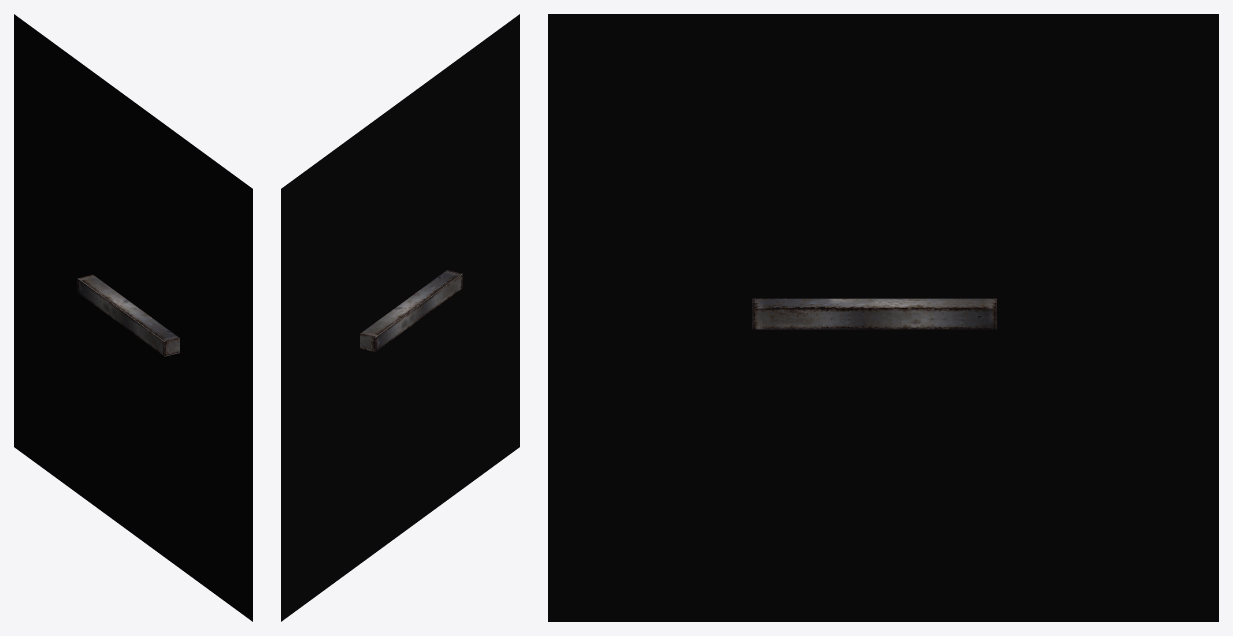
Rendered from lamp_flourescent01.dae.
3 views of the same model, side by side, from view 1: azimuth 30°, elevation 25°; view 2: azimuth 150°, elevation 25°; view 3: azimuth 270°, elevation 25° (orthographic). The views are drawn at different scales.
Parts seen in each view (by area): view 1: _bb_halo_flourescent_halo01, pCube14; view 2: _bb_halo_flourescent_halo01, pCube14; view 3: _bb_halo_flourescent_halo01, pCube14.
Part boxes in pixels (x1,y1,x2,y2): _bb_halo_flourescent_halo01: (14,14,252,621); pCube14: (77,274,179,356); _bb_halo_flourescent_halo01: (281,14,519,621); pCube14: (360,270,462,351); _bb_halo_flourescent_halo01: (548,14,1218,621); pCube14: (752,298,996,329).
Size of what is drawn, in the model's own units: 0.3766 by 5.15 by 5.15.
